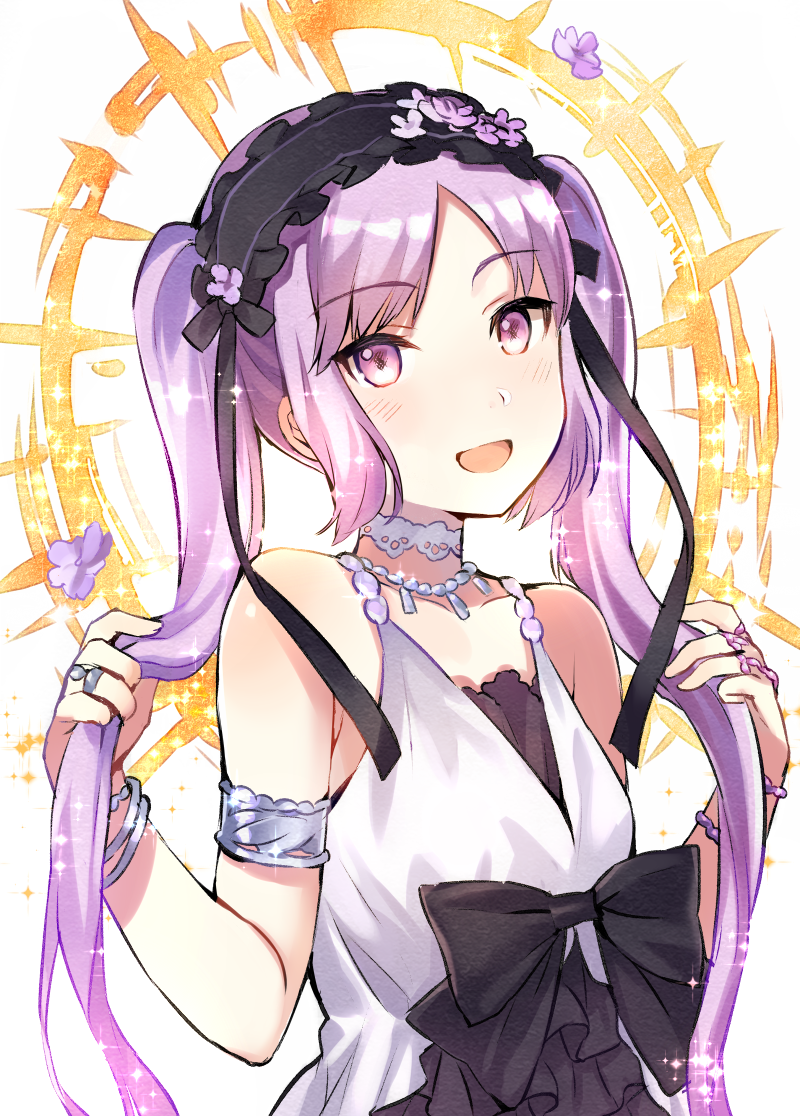纸片人正脸: (227, 96, 592, 535)
